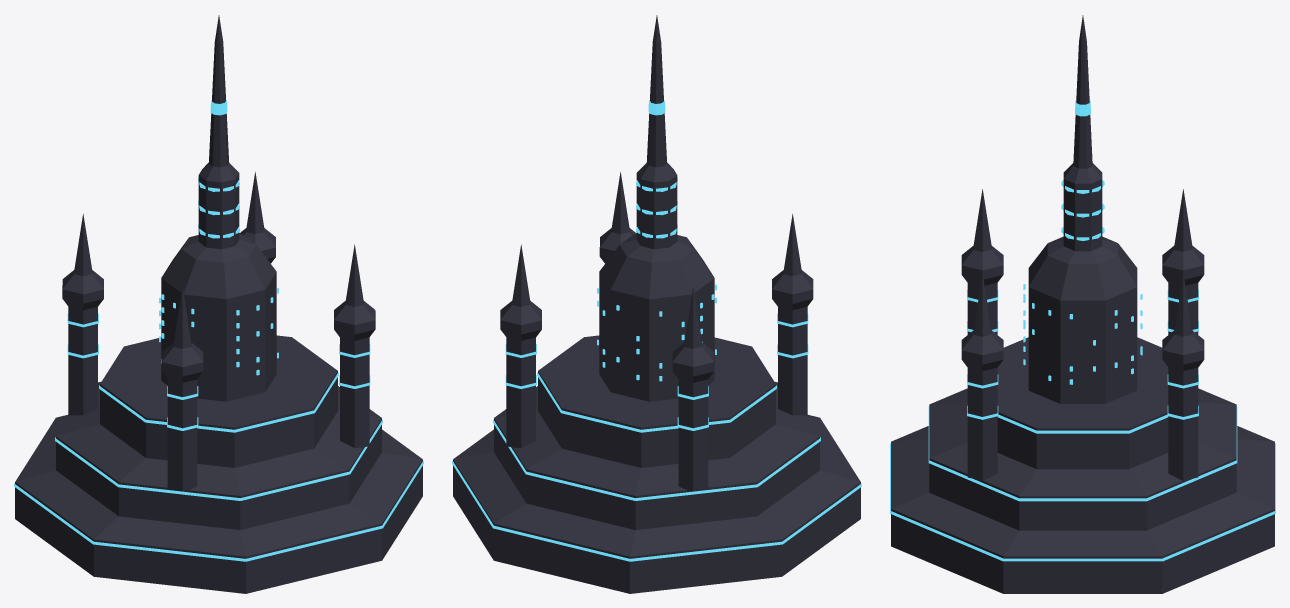
Rendered from Distant_01_web.glb.
3 renders of one model, left to right at view 1: azimuth 30°, elevation 25°; view 2: azimuth 150°, elevation 25°; view 3: azimuth 270°, elevation 25°, orthographic.
Visible parts, largest first — view 1: Distant_01_Body, Distant_01_Lights; view 2: Distant_01_Body, Distant_01_Lights; view 3: Distant_01_Body, Distant_01_Lights.
Boxes of the visible parts, x1,y1,x2,y2 form: Distant_01_Body: (15, 15, 422, 593); Distant_01_Lights: (14, 100, 423, 561); Distant_01_Body: (453, 15, 860, 593); Distant_01_Lights: (452, 100, 861, 561); Distant_01_Body: (891, 15, 1274, 593); Distant_01_Lights: (890, 100, 1275, 561).
Bounding box in the file's own units: 223 × 318 × 223.
